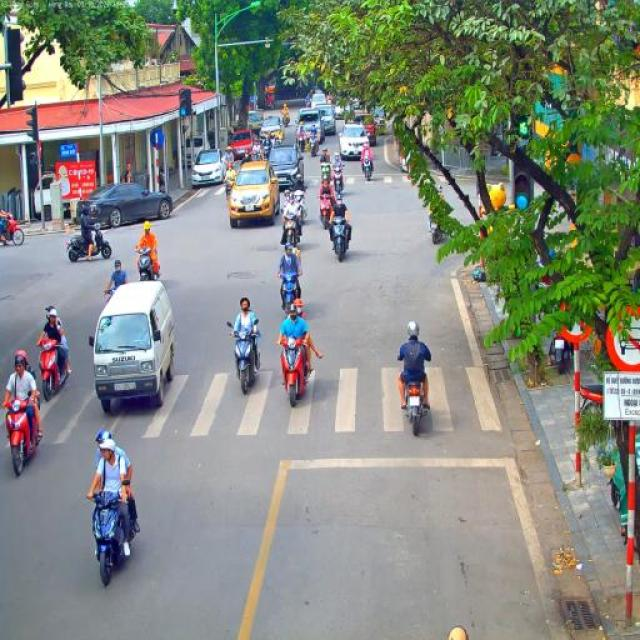car: (77, 181, 173, 228), (229, 161, 281, 228), (269, 145, 305, 191), (190, 149, 224, 186), (338, 122, 371, 160), (293, 108, 326, 144), (225, 129, 254, 166), (346, 114, 376, 146), (312, 104, 336, 136), (258, 117, 282, 147), (370, 107, 386, 135), (309, 92, 327, 106)
motorcycle: (84, 479, 140, 587), (3, 396, 45, 476), (226, 318, 262, 394), (276, 335, 312, 407), (36, 338, 72, 402), (66, 219, 112, 263), (402, 369, 428, 437), (328, 216, 352, 262), (278, 270, 302, 314), (136, 243, 162, 282), (549, 330, 571, 375), (0, 212, 25, 246), (282, 211, 302, 249), (576, 381, 605, 405), (317, 193, 333, 229), (293, 190, 308, 222), (428, 217, 444, 244), (330, 166, 344, 196), (361, 156, 374, 182), (306, 134, 319, 158), (224, 178, 236, 202), (320, 161, 332, 180), (222, 160, 234, 178), (296, 132, 306, 152), (262, 145, 272, 161), (280, 112, 290, 128), (272, 138, 284, 148), (251, 150, 261, 162)
truck: (89, 280, 176, 415), (32, 170, 78, 222), (246, 110, 264, 138)
